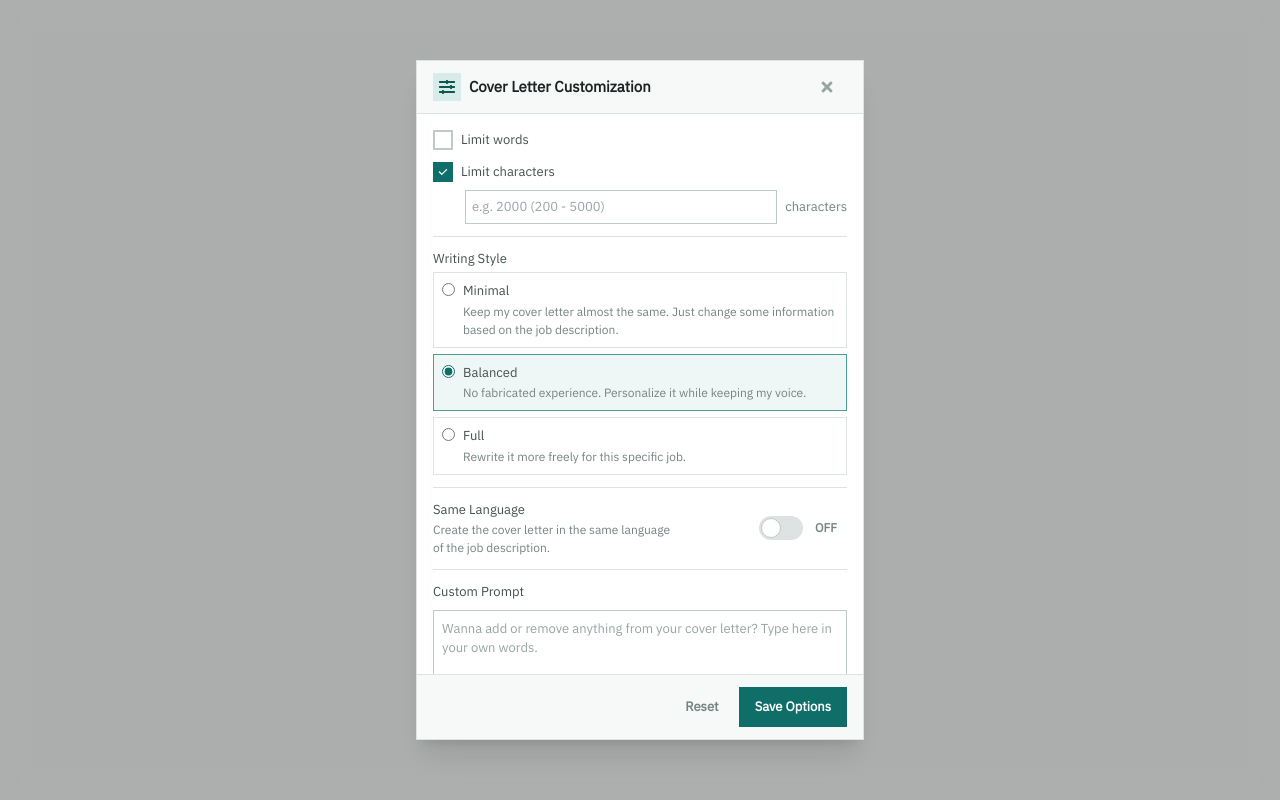
Test: CustomizeModal › shows validation error and blocks save when limitCharacters is enabled with invalid count
This screenshot has width=1280, height=800.
Type "100" into the field with placeholder "e.g. 2000 (200 - 5000)" at (621,207), box [465,190,777,224]
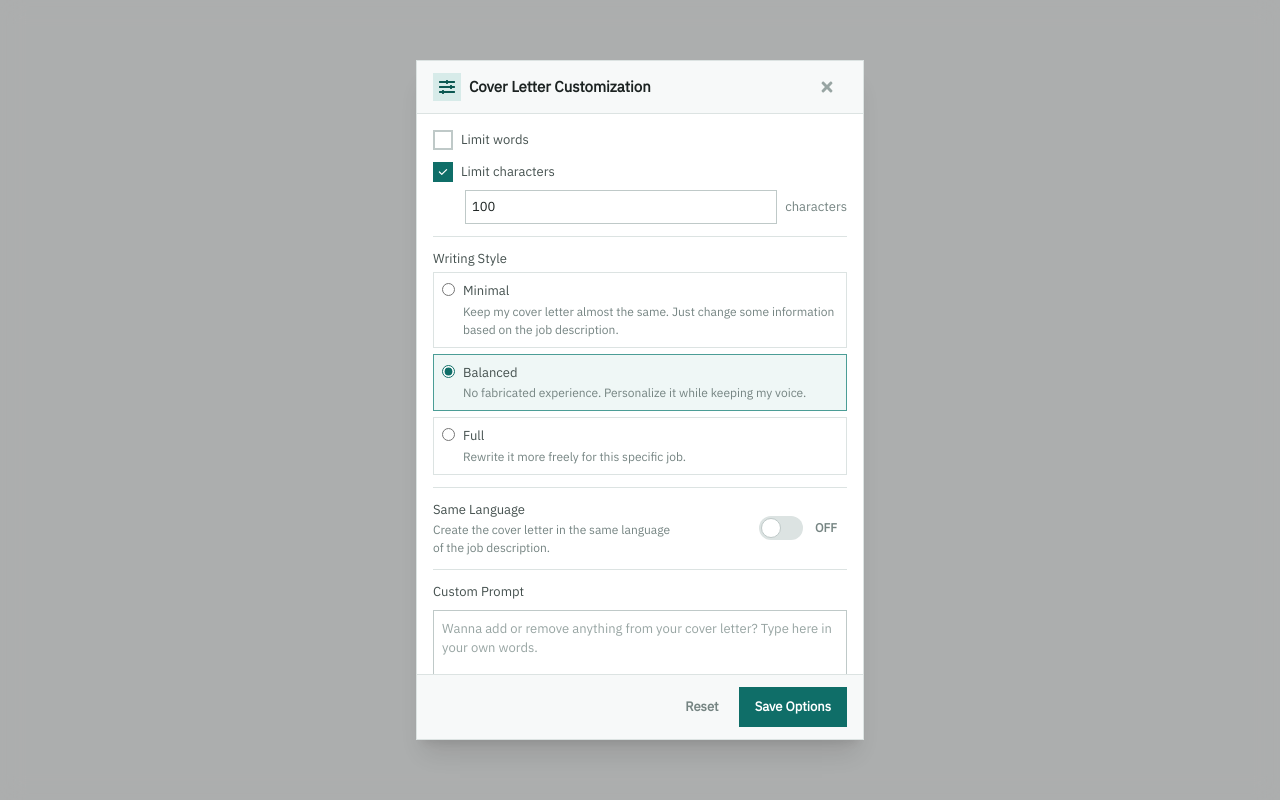
Click the button "Save Options" at (793,707), box [739,687,847,727]
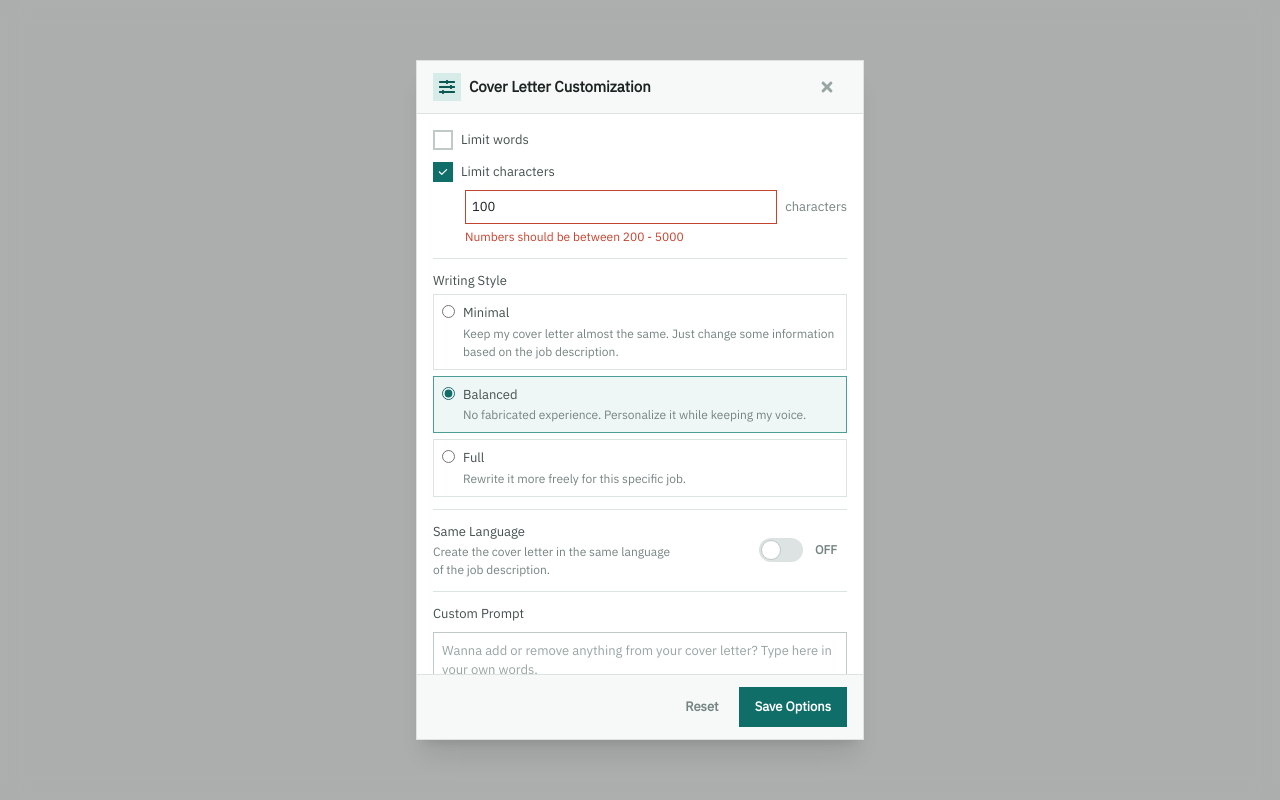
Result: the text "Numbers should be between 200 - 5000" is shown at [465,228,684,244]
